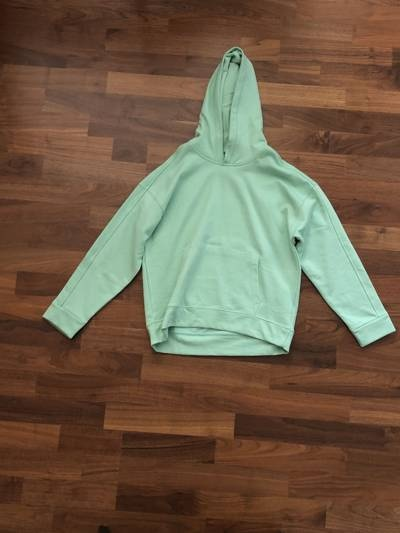Hoodie: (38, 46, 389, 364)
